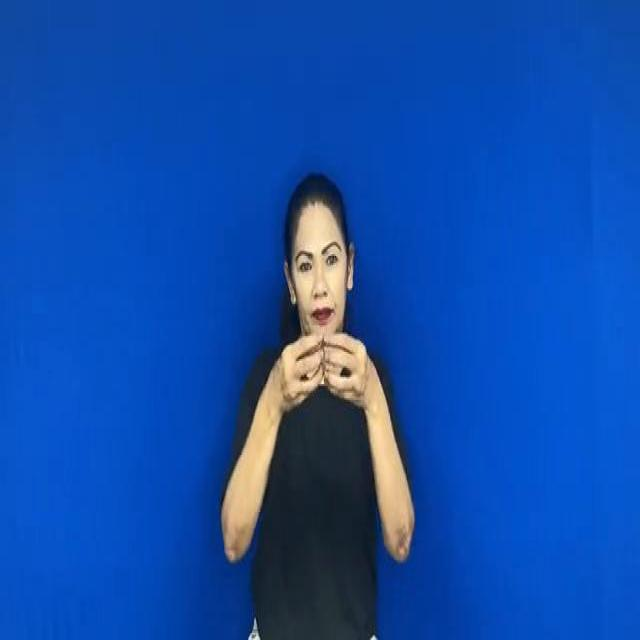egg: (264, 304, 374, 422)
